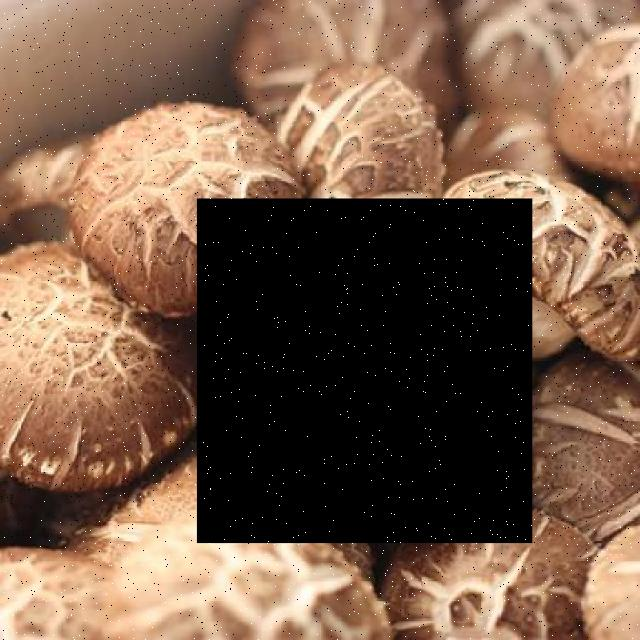Mushroom: (197, 199, 532, 544)
